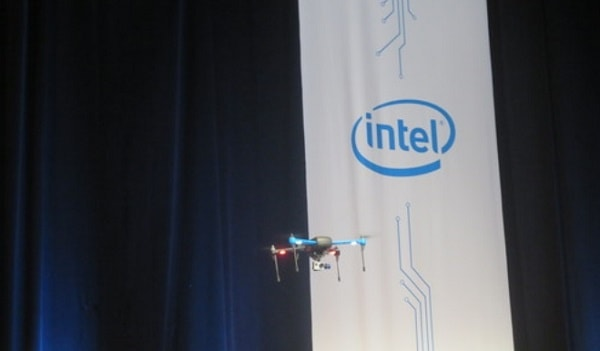drone: (257, 230, 383, 286)
